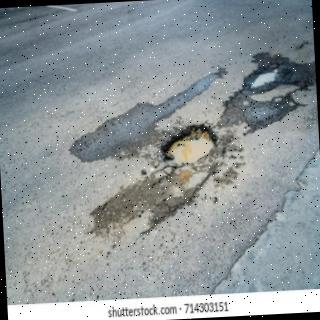pothole: (161, 124, 219, 167)
